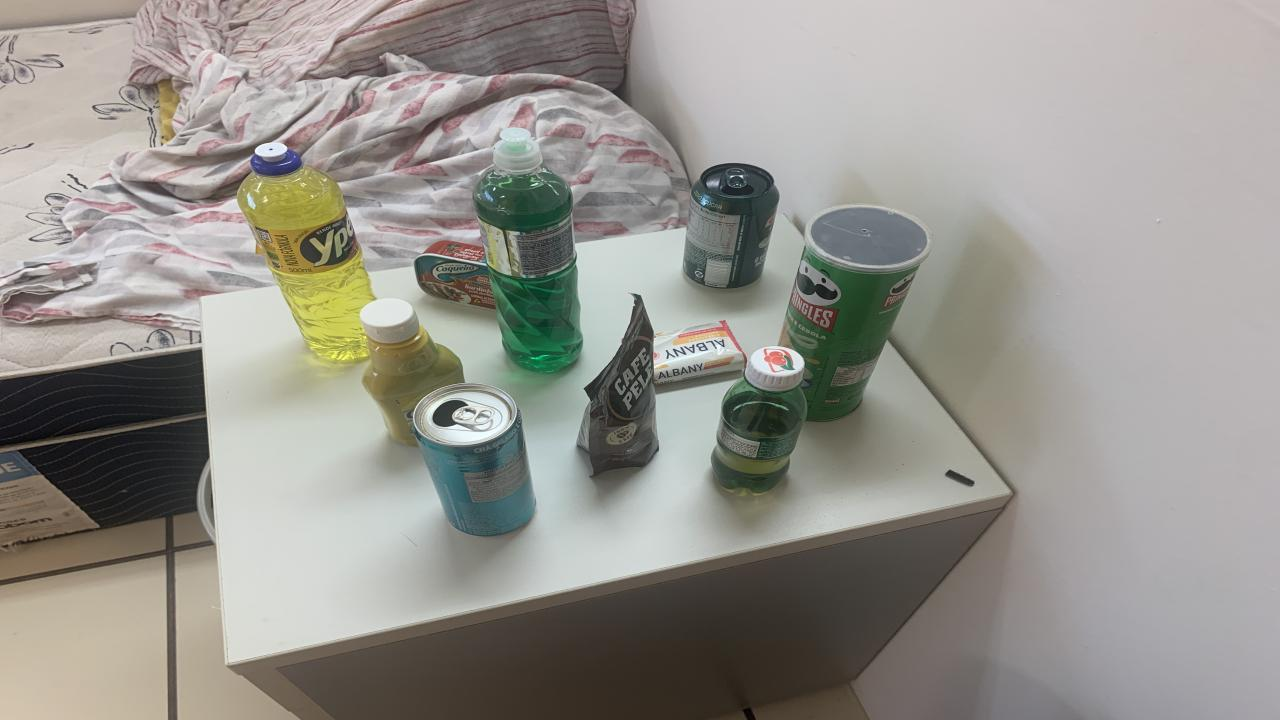Coffee-Pantry_Items: (578, 294, 660, 474)
Detergent-Cleanup_Items: (238, 142, 375, 360), (472, 128, 582, 373)
Guarana-Drinks: (712, 347, 808, 493)
Guarana_Can-Drinks: (682, 163, 780, 289)
Mustard-Pantry_Items: (360, 298, 465, 444)
Pringles-Snacks: (780, 204, 930, 422)
Soap-Cleanup_Items: (652, 321, 748, 384)
Tea-Drinks: (412, 382, 535, 536)
Tuna_Can-Pantry_Items: (415, 240, 495, 309)
